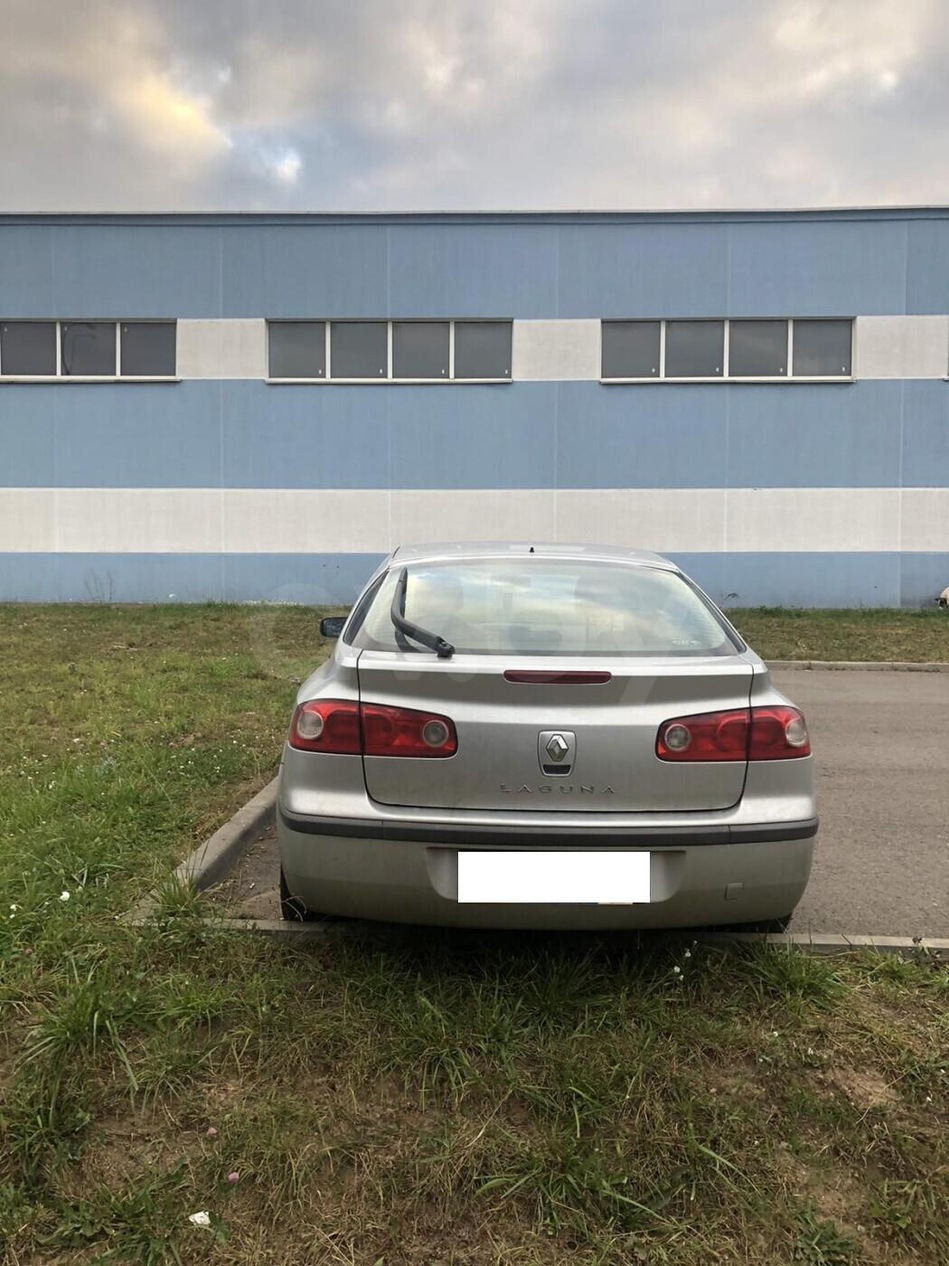Laguna_2005-2007: (275, 534, 821, 953)
